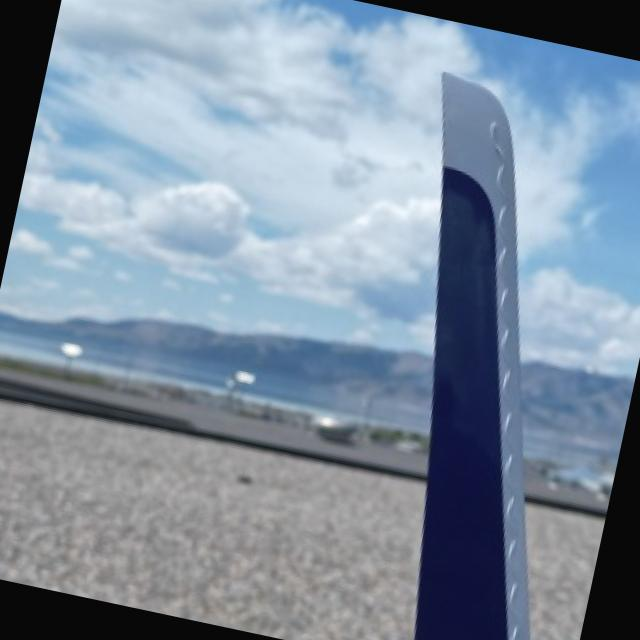healthy: (413, 70, 526, 640)
